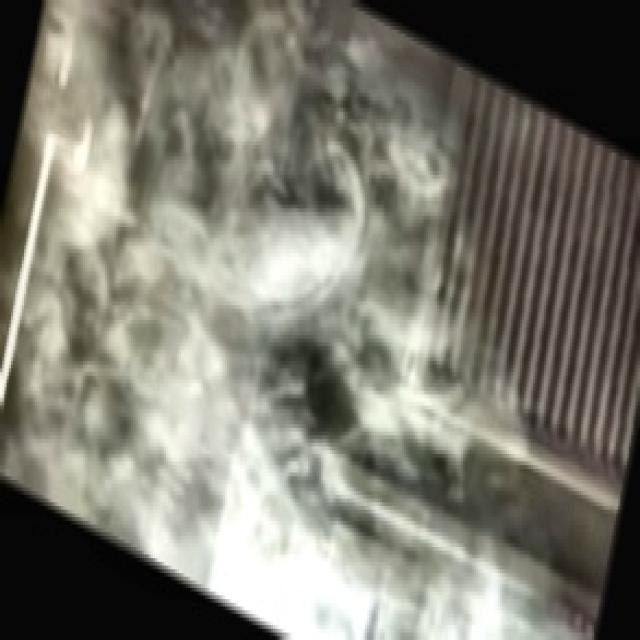smoke: (0, 0, 481, 640)
